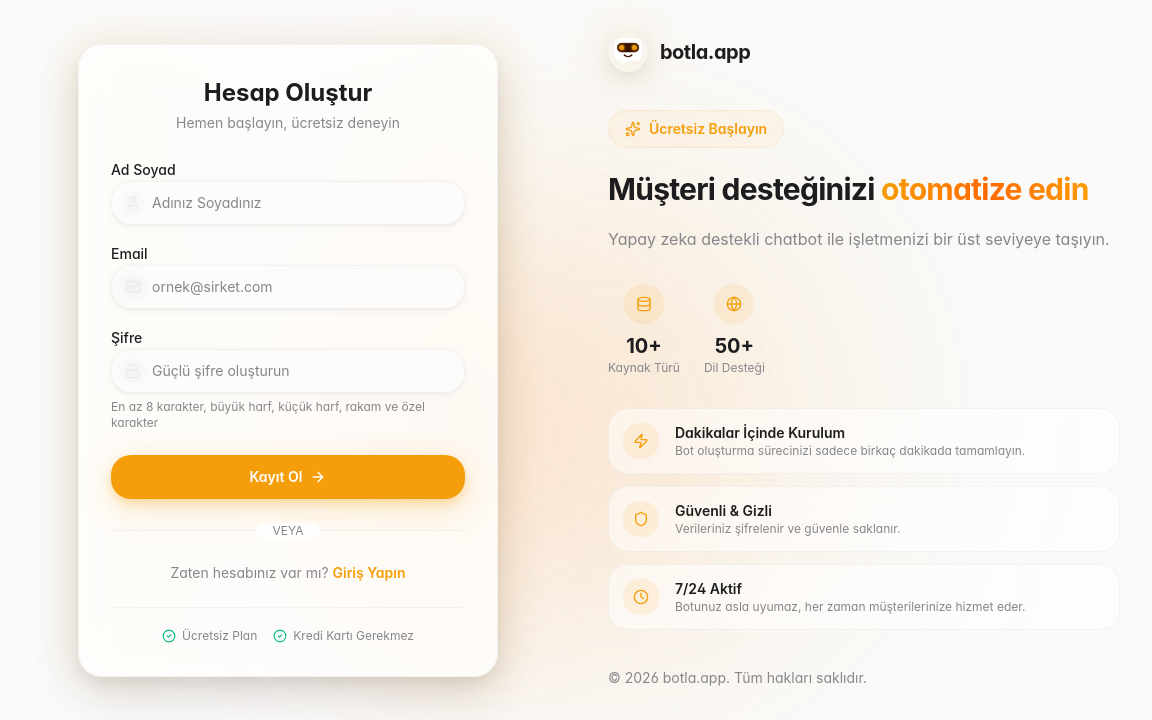
Test case: RegisterPage › validates empty fields and shows error toast
The image size is (1152, 720).
Check: the field labelled "Ad Soyad" is shown, box [111,180,465,224]
Step 1. Click the button "Kayıt Ol" → point(288, 476), box [111,454,465,498]
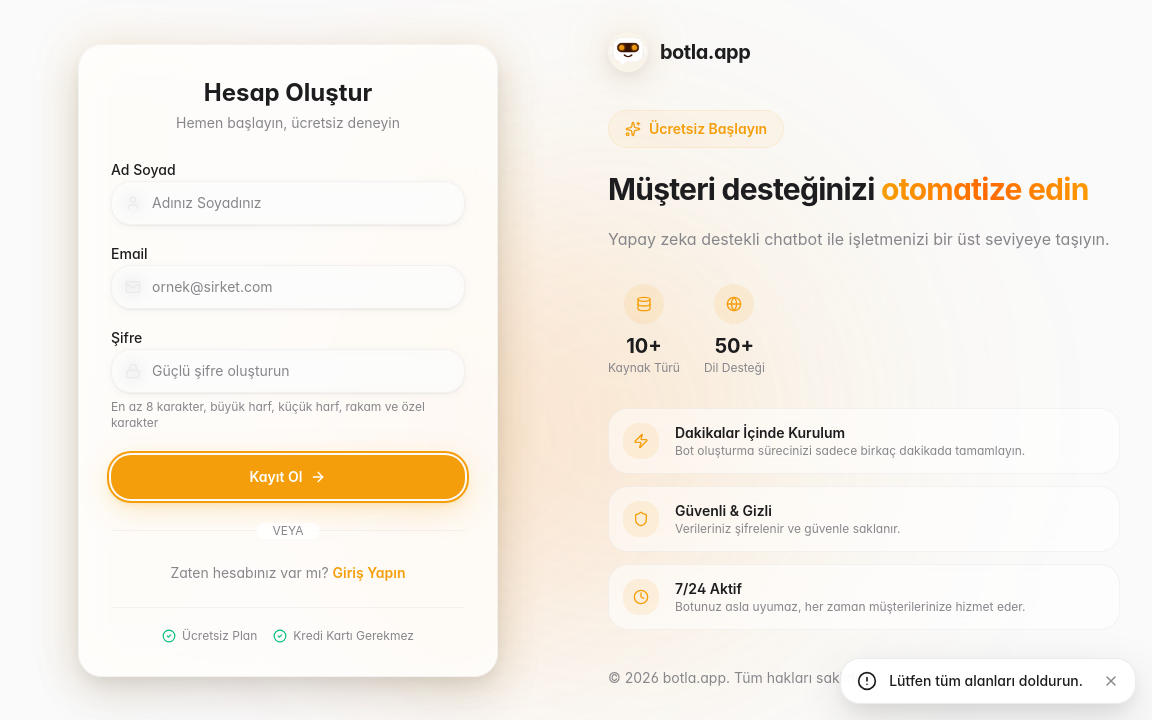
Check: the text "Lütfen tüm alanları doldurun." is shown, box [889,671,1083,691]
